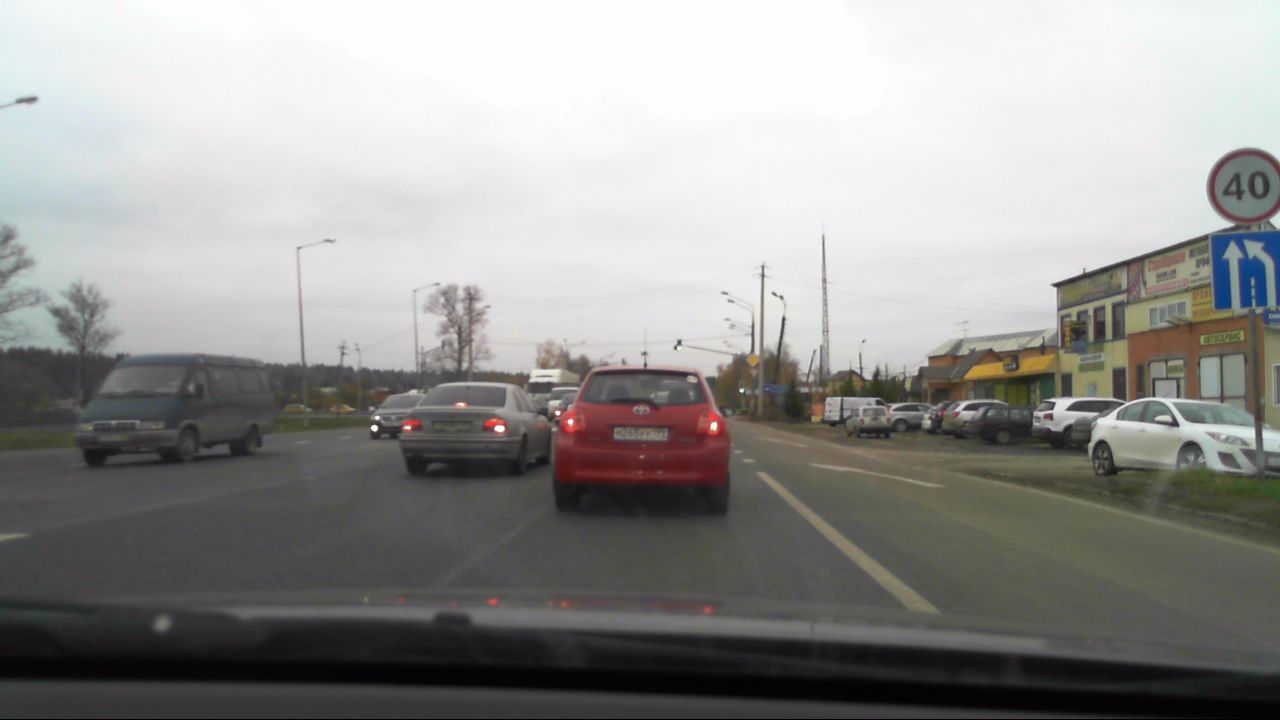speed_warning_40: (1205, 145, 1279, 227)
